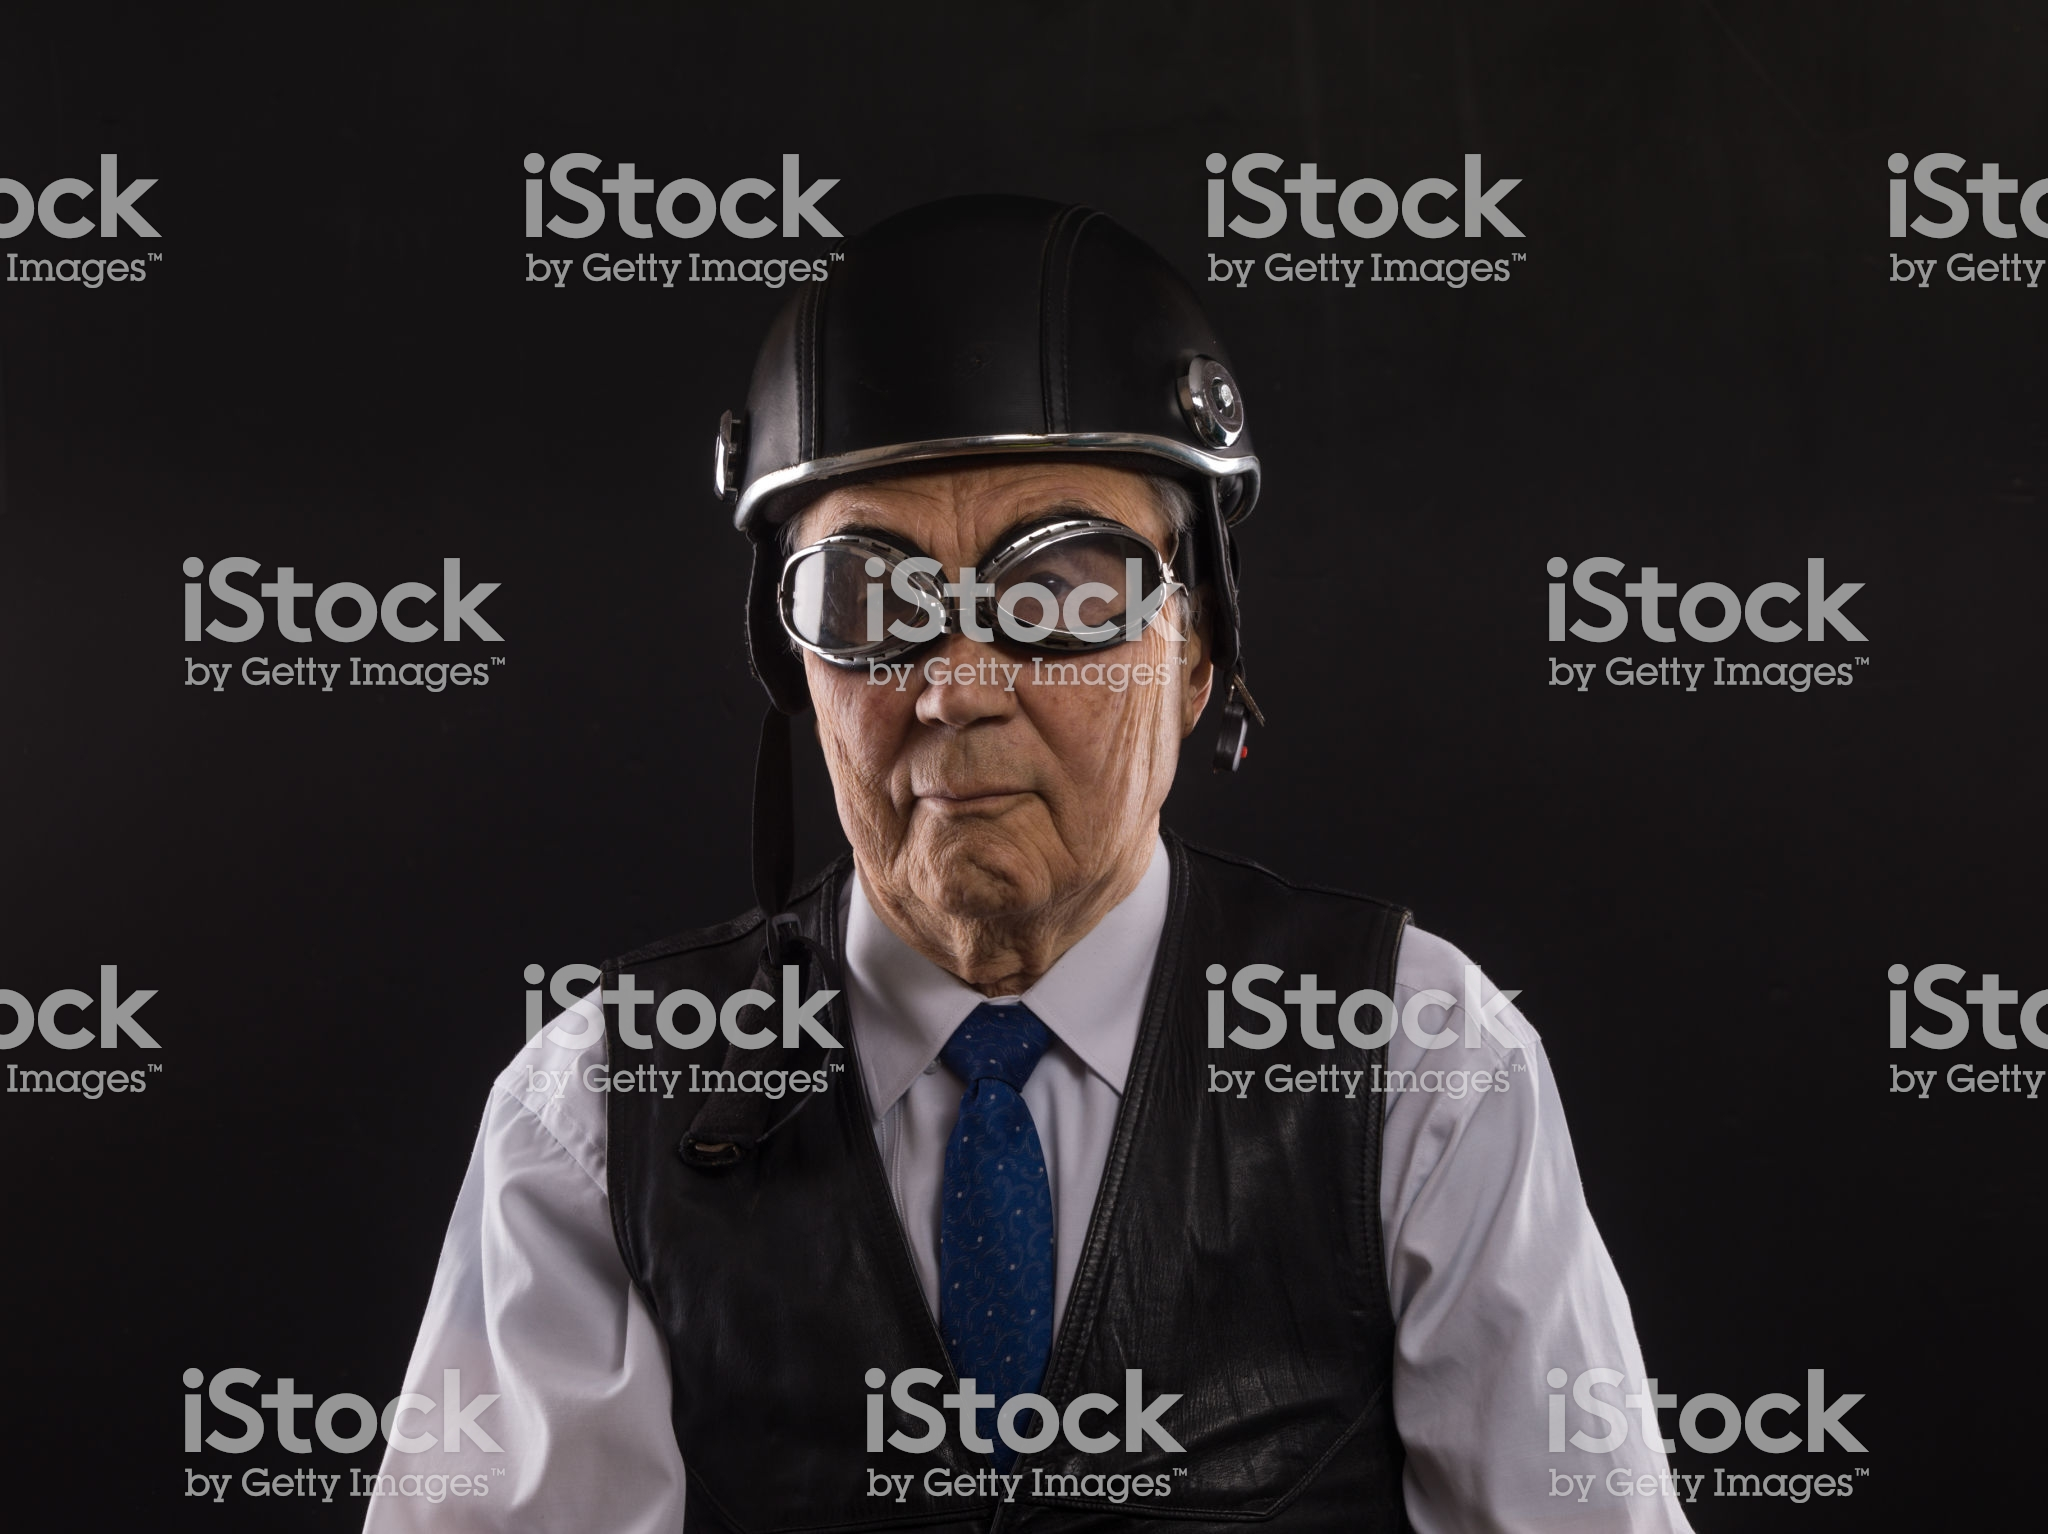helmet: (677, 197, 1247, 572)
